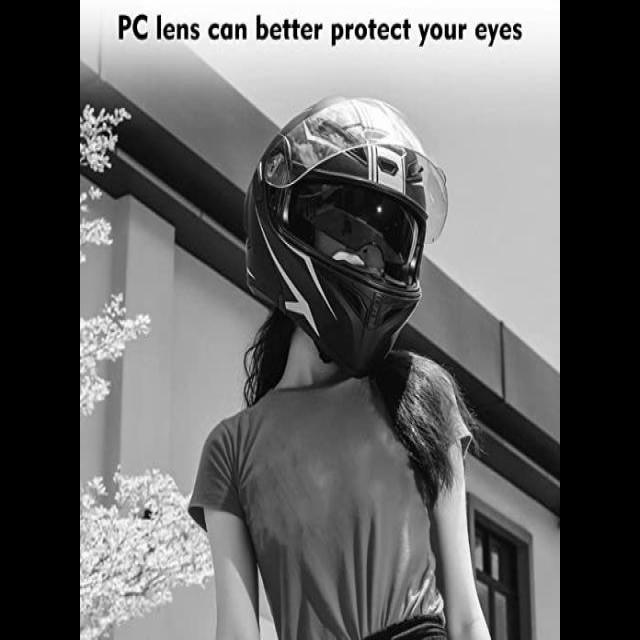5_casco: (227, 74, 448, 406)
